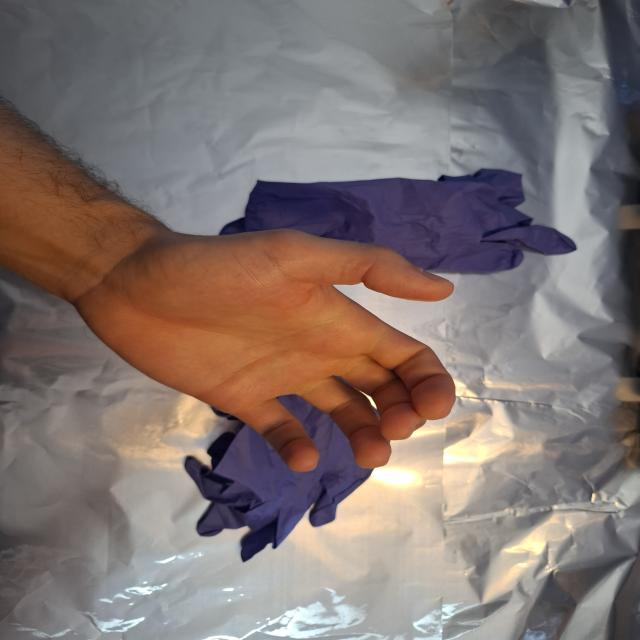glove_off: (70, 223, 460, 475)
